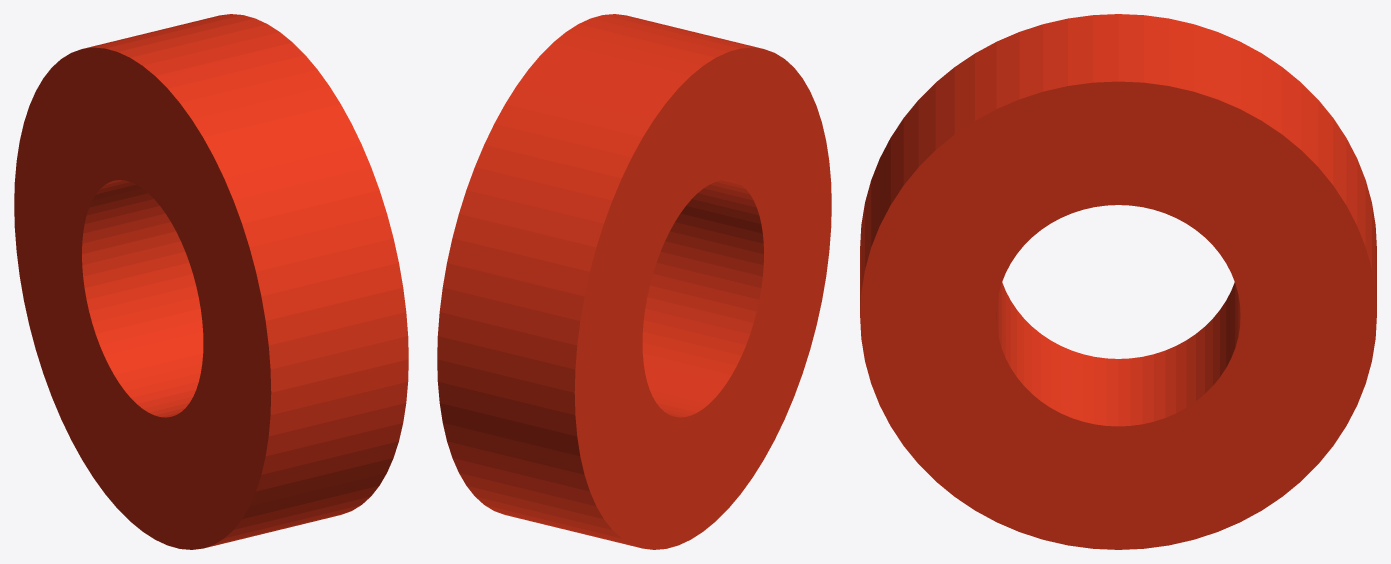
The model's file is bearing_front.obj.
3 renders of one model, left to right at view 1: azimuth 30°, elevation 25°; view 2: azimuth 150°, elevation 25°; view 3: azimuth 270°, elevation 25°, orthographic.
Parts seen in each view (by area): view 1: bearing_front; view 2: bearing_front; view 3: bearing_front.
Boxes of the visible parts, left/top/right/bottom form: bearing_front: left=14, top=14, right=408, bottom=549; bearing_front: left=437, top=14, right=831, bottom=549; bearing_front: left=860, top=14, right=1376, bottom=549.
Bounding box in the file's own units: 0.034 × 0.11 × 0.11.
